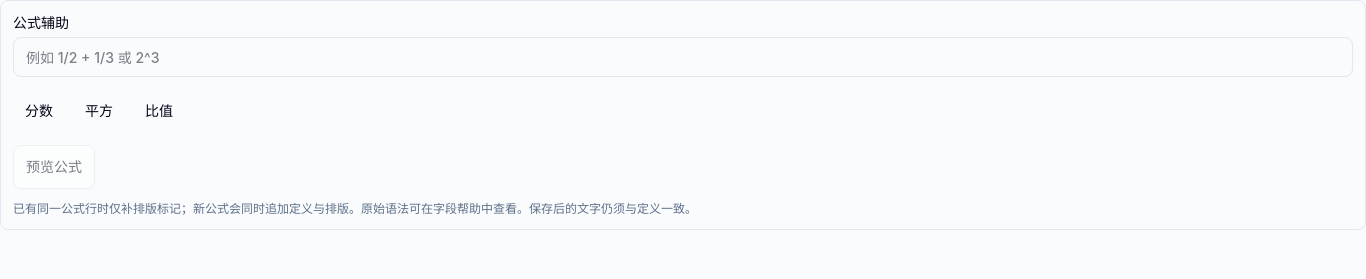
Test: does not offer insertion after the parser rejects a formula
Type "bad(" into the field labelled "公式辅助".
click(683, 57); type("bad(")  # box [13,37,1353,77]
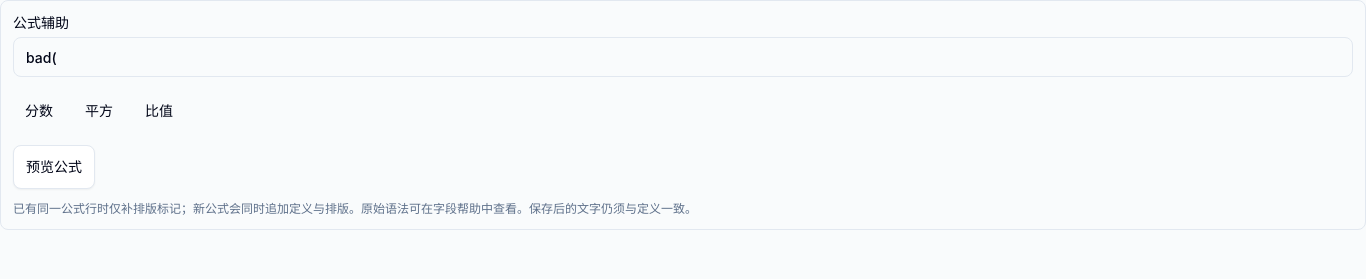
Click the button "预览公式".
click(54, 167)  # box [13,145,95,189]
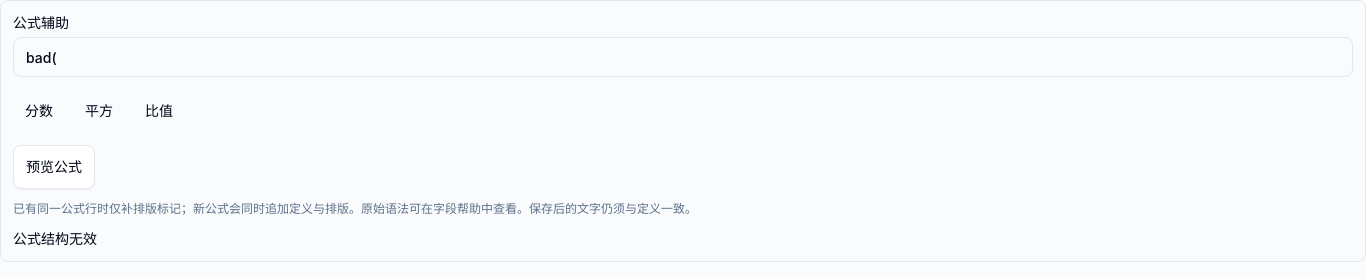
Expected: the text "公式结构无效" is shown, [13,230,97,247]
